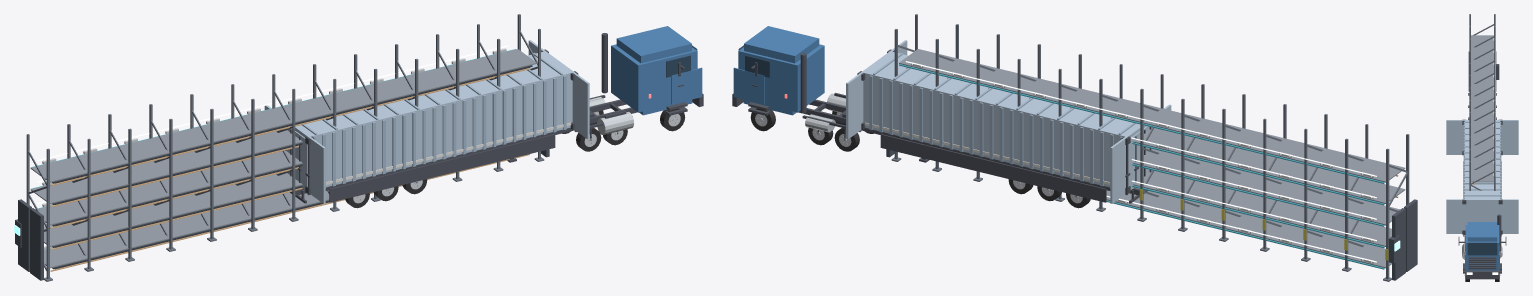
The model's file is aging-rack-v4.glb.
3 views of the same model, side by side, from view 1: azimuth 30°, elevation 25°; view 2: azimuth 150°, elevation 25°; view 3: azimuth 270°, elevation 25° (orthographic). The views are drawn at different scales.
Parts seen in each view (by area): view 1: GEO-aging_shelf, GEO-truck_cont, GEO-aging_frame, GEO-truck_rib, GEO-truck_body, GEO-truck_chassis, GEO-aging_cable, GEO-aging_copper, GEO-aging_dark, GEO-truck_tire, GEO-aging_led, GEO-truck_steel (+3 smaller); view 2: GEO-aging_shelf, GEO-truck_cont, GEO-aging_frame, GEO-truck_rib, GEO-truck_chassis, GEO-truck_body, GEO-aging_cyan, GEO-aging_led, GEO-aging_dark, GEO-aging_fixture, GEO-truck_tire, GEO-truck_tape (+2 smaller); view 3: GEO-truck_cont, GEO-aging_shelf, GEO-aging_frame, GEO-truck_chassis, GEO-truck_body, GEO-truck_rib, GEO-truck_glass, GEO-aging_dark, GEO-aging_led, GEO-truck_steel, GEO-aging_fixture.
Part boxes in pixels (x1=…): GEO-aging_shelf: x1=30, y1=49, x2=536, y2=268; GEO-truck_cont: x1=264, y1=40, x2=589, y2=203; GEO-aging_frame: x1=26, y1=14, x2=544, y2=281; GEO-truck_rib: x1=302, y1=53, x2=566, y2=187; GEO-truck_body: x1=611, y1=26, x2=702, y2=115; GEO-truck_chassis: x1=285, y1=33, x2=703, y2=203; GEO-aging_cable: x1=52, y1=65, x2=532, y2=269; GEO-aging_copper: x1=50, y1=68, x2=529, y2=271; GEO-aging_dark: x1=15, y1=149, x2=549, y2=280; GEO-truck_tire: x1=345, y1=108, x2=685, y2=208; GEO-aging_led: x1=37, y1=45, x2=508, y2=245; GEO-truck_steel: x1=589, y1=97, x2=633, y2=134; GEO-aging_shelf: x1=899, y1=49, x2=1405, y2=268; GEO-truck_cont: x1=846, y1=40, x2=1171, y2=203; GEO-aging_frame: x1=891, y1=14, x2=1409, y2=281; GEO-truck_rib: x1=869, y1=53, x2=1135, y2=187; GEO-truck_chassis: x1=732, y1=49, x2=1151, y2=203; GEO-truck_body: x1=733, y1=26, x2=824, y2=115; GEO-aging_cyan: x1=899, y1=64, x2=1384, y2=269; GEO-aging_led: x1=905, y1=61, x2=1376, y2=262; GEO-aging_dark: x1=886, y1=149, x2=1417, y2=280; GEO-aging_fixture: x1=910, y1=62, x2=1374, y2=263; GEO-truck_tire: x1=750, y1=108, x2=1090, y2=208; GEO-truck_tape: x1=864, y1=122, x2=1109, y2=184; GEO-truck_cont: x1=1446, y1=120, x2=1518, y2=233; GEO-aging_shelf: x1=1471, y1=35, x2=1493, y2=182; GEO-aging_frame: x1=1468, y1=14, x2=1496, y2=190; GEO-truck_chassis: x1=1458, y1=119, x2=1506, y2=279; GEO-truck_body: x1=1465, y1=222, x2=1499, y2=272; GEO-truck_rib: x1=1463, y1=121, x2=1501, y2=198; GEO-truck_glass: x1=1465, y1=235, x2=1499, y2=255; GEO-aging_dark: x1=1468, y1=51, x2=1499, y2=91; GEO-aging_led: x1=1495, y1=35, x2=1495, y2=176; GEO-truck_steel: x1=1462, y1=243, x2=1502, y2=259; GEO-aging_fixture: x1=1493, y1=38, x2=1493, y2=177.
Bounding box in the file's own units: 32.37 × 6.1 × 5.
